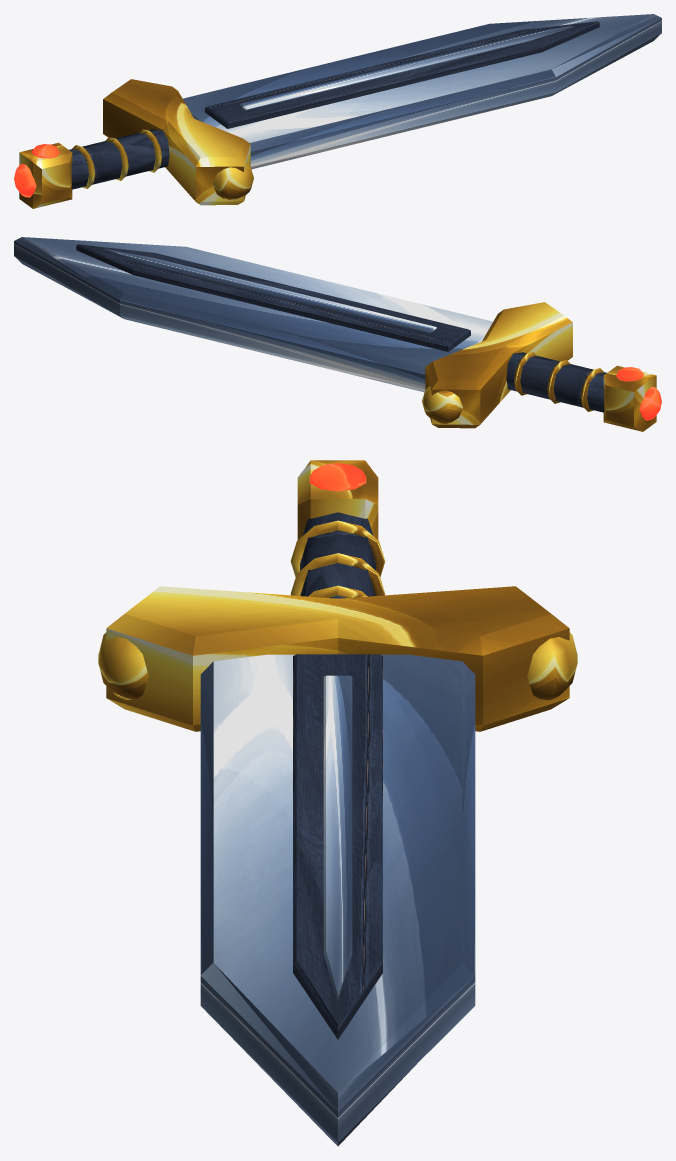
File: brand.glb
The picture shows the model from 3 angles, top to bottom: view 1: azimuth 30°, elevation 25°; view 2: azimuth 150°, elevation 25°; view 3: azimuth 270°, elevation 25°; orthographic projection. The views are drawn at different scales.
Visible parts, largest first — view 1: Knight_Brand; view 2: Knight_Brand; view 3: Knight_Brand.
Part boxes in pixels (x1=…): Knight_Brand: x1=14, y1=14, x2=661, y2=208; Knight_Brand: x1=14, y1=237, x2=661, y2=431; Knight_Brand: x1=98, y1=460, x2=577, y2=1146.
Bounding box in the file's own units: 1.26 × 0.0995 × 0.4043.
4 materials, 4 textured.
